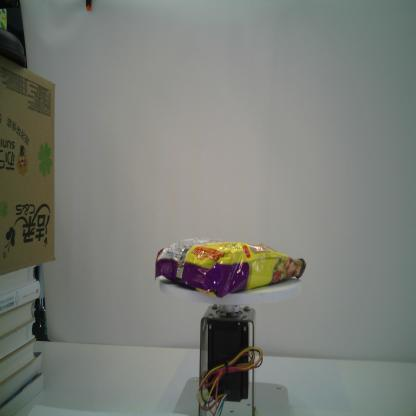Instant Noodles: (154, 235, 309, 300)
